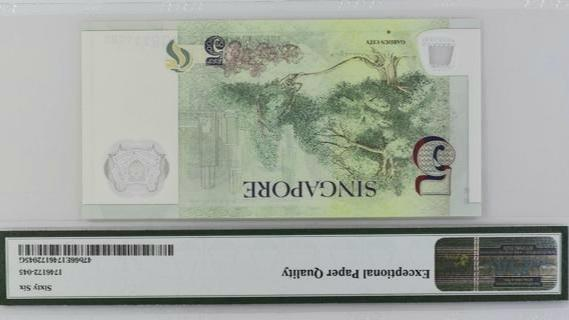5SingaporeDollar: (80, 20, 481, 220)
